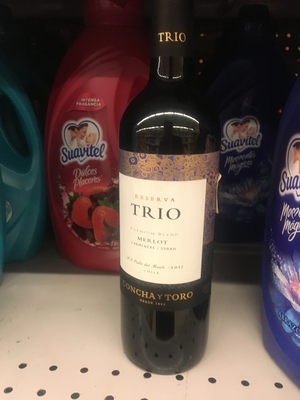trio merlot: (102, 22, 231, 382)
